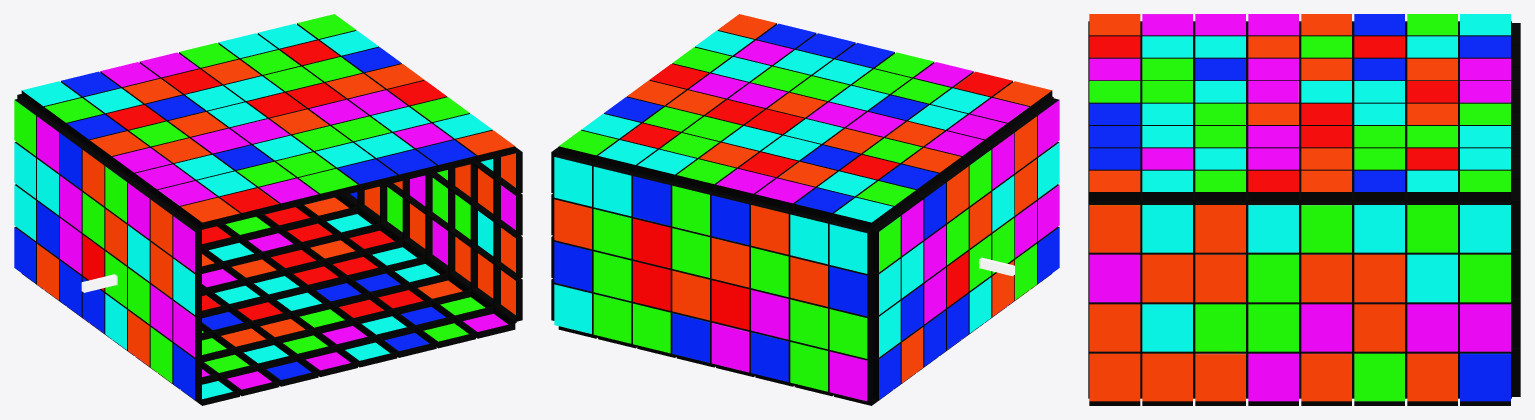
Rendered from BaseBackground.fbx.
The picture shows the model from 3 angles, left to right: view 1: azimuth 30°, elevation 25°; view 2: azimuth 150°, elevation 25°; view 3: azimuth 270°, elevation 25°; orthographic projection. The views are drawn at different scales.
Visible parts, largest first — view 1: BaseBackground; view 2: BaseBackground; view 3: BaseBackground.
Boxes of the visible parts, bbox=[...] form: BaseBackground: bbox=[14, 14, 522, 405]; BaseBackground: bbox=[551, 14, 1059, 405]; BaseBackground: bbox=[1088, 14, 1520, 405].
Size of the model in its own units: 439 by 213 by 390.
